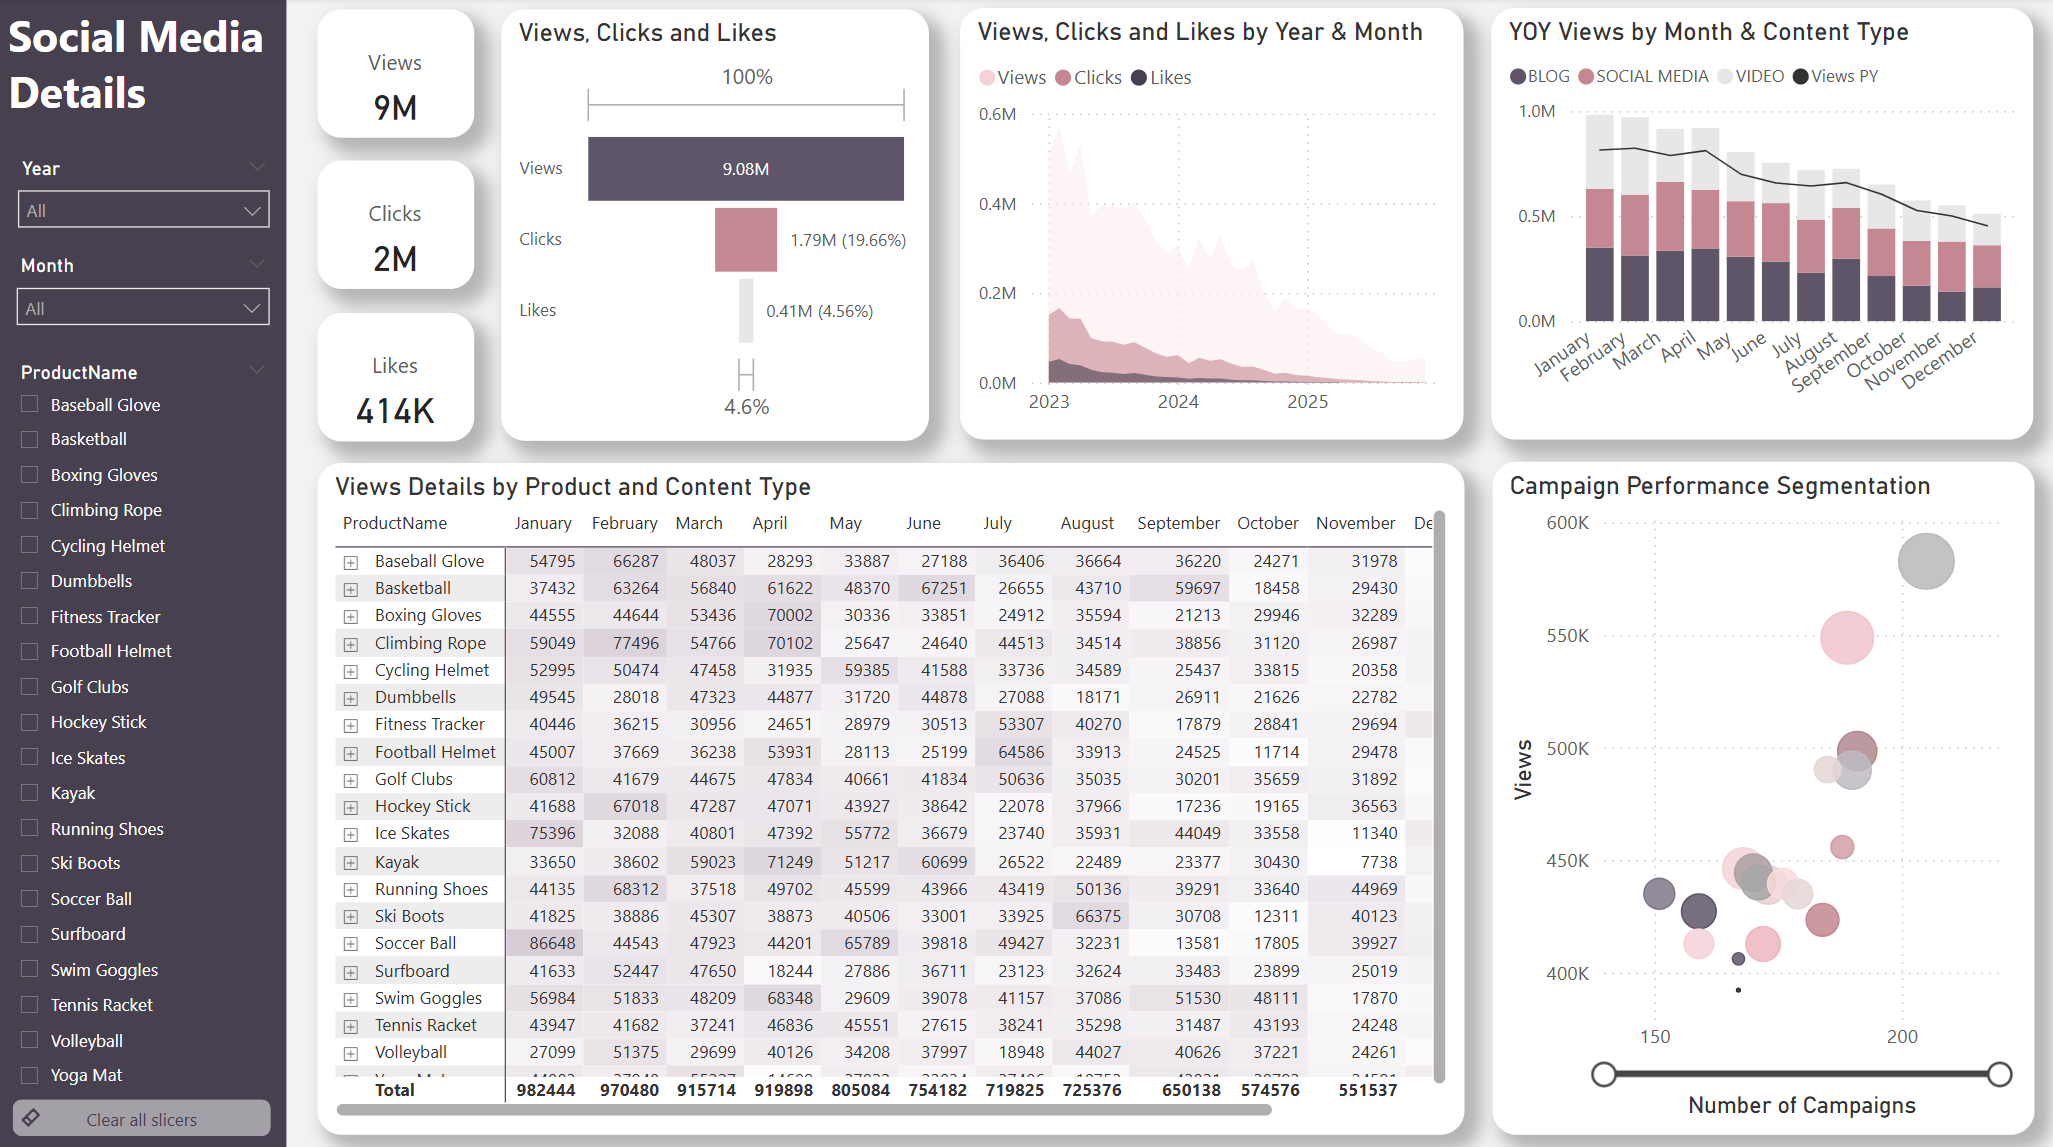

Layout of this report page (visuals, bound fields, positions):
{"tool":"powerbi","page":{"name":"Social Media Details","canvas":[1280,720],"ordinal":2},"visuals":[{"type":"textbox","box":[0,0,178.3,720],"z":0},{"type":"slicer","fields":{"Values":["dim_products.ProductName"]},"box":[0,221,178,476],"z":1000},{"type":"cardVisual","fields":{"Data":["_Calculations.Views"]},"box":[197.5,6.7,97.5,80],"z":2000},{"type":"cardVisual","fields":{"Data":["_Calculations.Clicks"]},"box":[197.5,100.8,97.5,80],"z":3000},{"type":"cardVisual","fields":{"Data":["_Calculations.Likes"]},"box":[197.5,195.8,97.5,80],"z":4000},{"type":"slicer","fields":{"Values":["Calendar.Year"]},"box":[0.8,94.2,177.5,69.2],"z":5000},{"type":"slicer","fields":{"Values":["Calendar.MonthNameLong"]},"box":[0,155,178,66],"z":6000},{"type":"areaChart","title":"Views, Clicks and Likes by Year & Month","fields":{"Y":["_Calculations.Views","_Calculations.Clicks","_Calculations.Likes"],"Category":["Calendar.Date.Variation.Date Hierarchy.Year","Calendar.Date.Variation.Date Hierarchy.Month"]},"box":[598.2,6.4,313.6,269.1],"z":7000},{"type":"funnel","fields":{"Y":["_Calculations.Views","_Calculations.Clicks","_Calculations.Likes"]},"box":[312.5,6.7,266.7,269.2],"z":8000},{"type":"pivotTable","title":"Views Details by Product and Content Type","fields":{"Rows":["dim_products.ProductName","fact_engagement_data.ContentType"],"Values":["_Calculations.Views"],"Columns":["Calendar.Date.Variation.Date Hierarchy.Month"]},"box":[197.6,289.7,714.3,418.3],"z":9000},{"type":"lineStackedColumnComboChart","title":"YOY Views by Month & Content Type","fields":{"Series":["fact_engagement_data.ContentType"],"Y":["_Calculations.Views"],"Y2":["_Calculations.Views PY"],"Category":["Calendar.Date.Variation.Date Hierarchy.Month"]},"box":[929.1,6.4,337.3,269.1],"z":10000},{"type":"scatterChart","title":"Campaign Performance Segmentation","fields":{"X":["_Calculations.Number of Campaigns"],"Y":["_Calculations.Views"],"Series":["fact_engagement_data.CampaignID"],"Size":["_Calculations.Likes"]},"box":[929.4,288.9,337.3,419],"z":11000},{"type":"actionButton","box":[8,686,161,23],"z":12000}]}

Visuals, with their boxes in screenshot pixels (x1, y1, x2, y2), scaled from the page's 1280x720 canvas onto the 2053x1147 screenshot:
textbox: bbox(0, 0, 286, 1146)
slicer - dim_products.ProductName: bbox(0, 352, 285, 1110)
cardVisual - _Calculations.Views: bbox(317, 11, 473, 138)
cardVisual - _Calculations.Clicks: bbox(317, 161, 473, 288)
cardVisual - _Calculations.Likes: bbox(317, 312, 473, 439)
slicer - Calendar.Year: bbox(1, 150, 286, 260)
slicer - Calendar.MonthNameLong: bbox(0, 247, 285, 352)
"Views, Clicks and Likes by Year & Month" areaChart: bbox(959, 10, 1462, 439)
funnel - _Calculations.Views x _Calculations.Clicks: bbox(501, 11, 929, 440)
"Views Details by Product and Content Type" pivotTable: bbox(317, 462, 1463, 1128)
"YOY Views by Month & Content Type" lineStackedColumnComboChart: bbox(1490, 10, 2031, 439)
"Campaign Performance Segmentation" scatterChart: bbox(1491, 460, 2032, 1128)
actionButton: bbox(13, 1093, 271, 1129)
